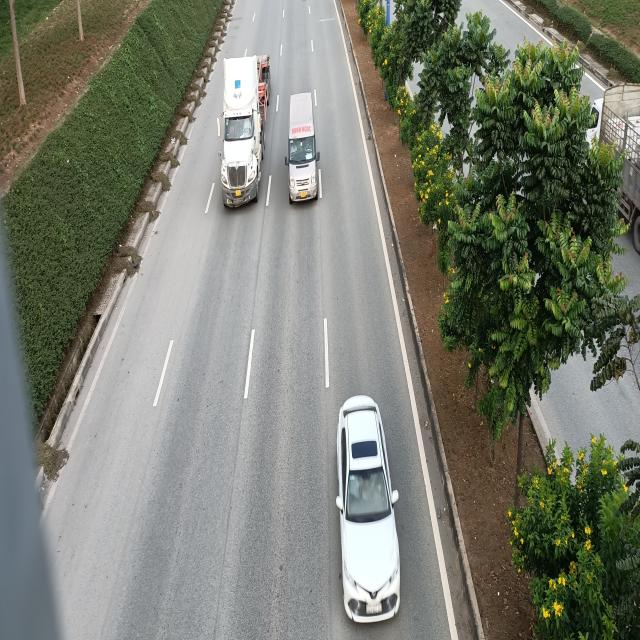car: (333, 393, 402, 619), (562, 635, 567, 640)
container: (218, 55, 272, 206)
van: (287, 90, 319, 205)
